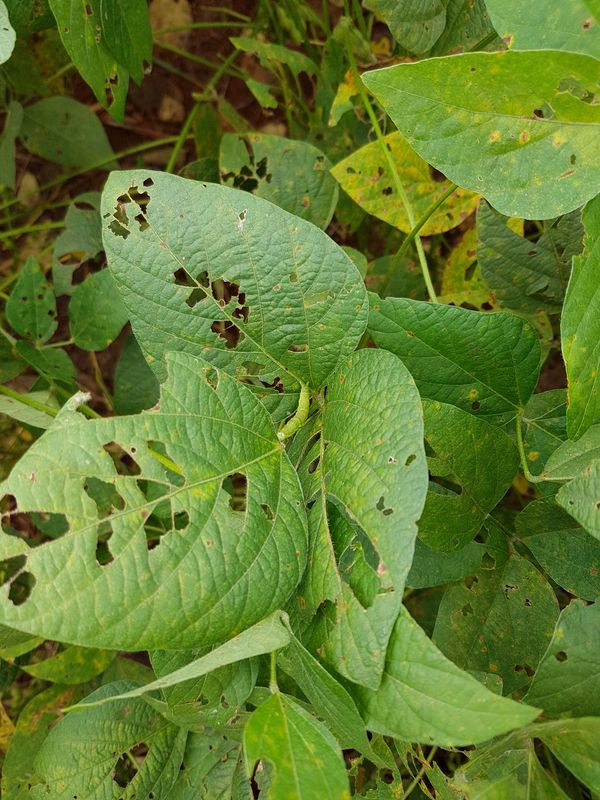Anticarsia_gemmatalis: (270, 377, 316, 444)
